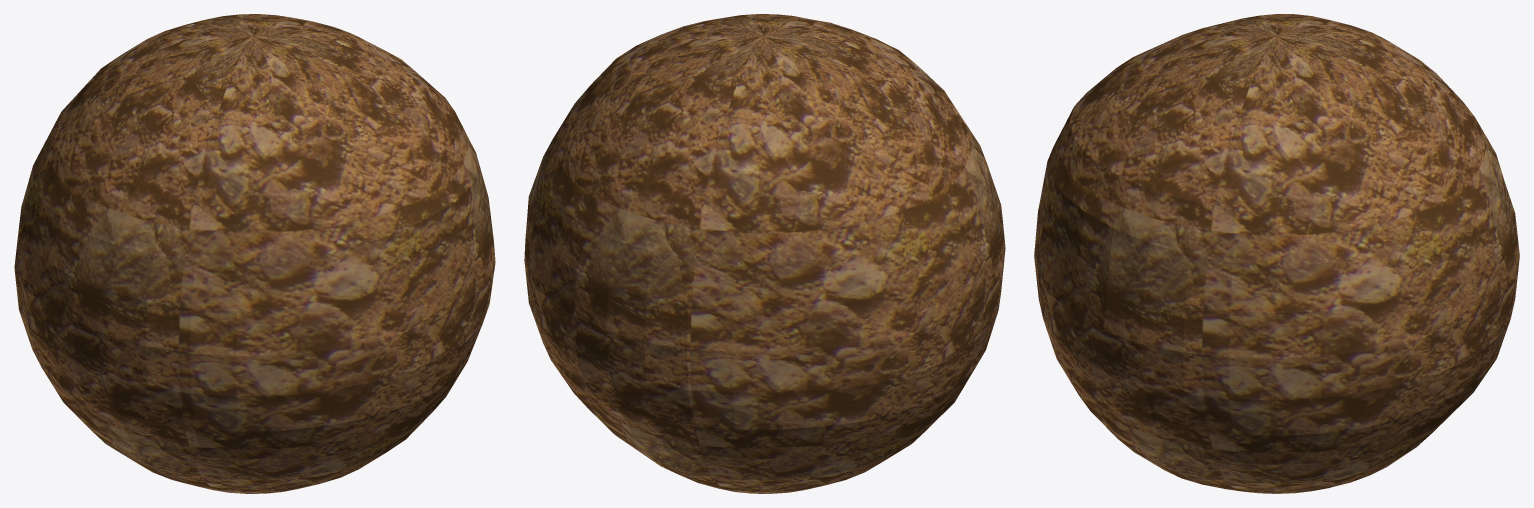
Rendered from boulder.dae.
The picture shows the model from 3 angles, left to right: view 1: azimuth 30°, elevation 25°; view 2: azimuth 150°, elevation 25°; view 3: azimuth 270°, elevation 25°; orthographic projection.
Visible parts, largest first — view 1: Sphere; view 2: Sphere; view 3: Sphere.
Part boxes in pixels (x1=…): Sphere: x1=14, y1=14, x2=495, y2=493; Sphere: x1=524, y1=14, x2=1005, y2=493; Sphere: x1=1034, y1=14, x2=1519, y2=493.
Size of the model in its own units: 7.04 by 7 by 6.99.
Materials: 1 (1 with a texture image).
